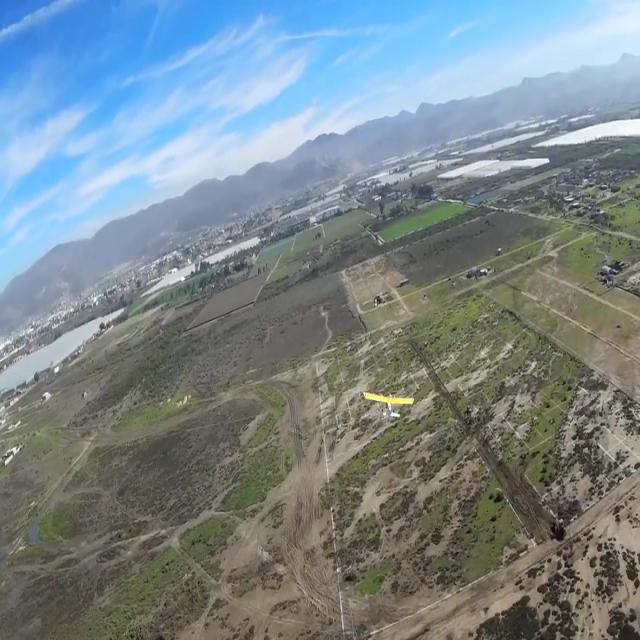iha: (362, 390, 415, 420)
